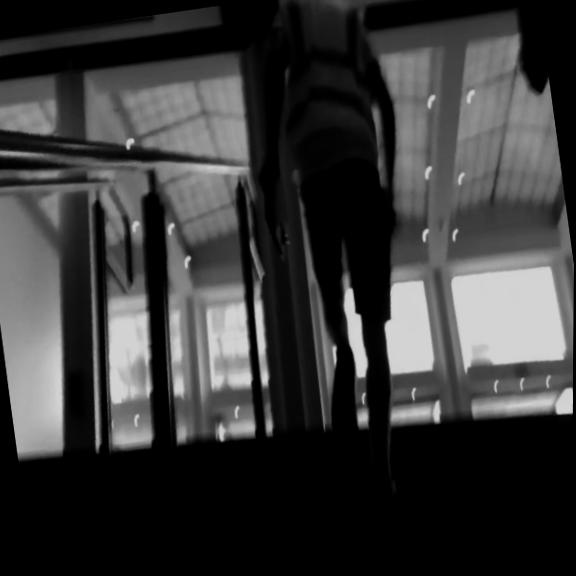safety_vest: (262, 0, 390, 185)
